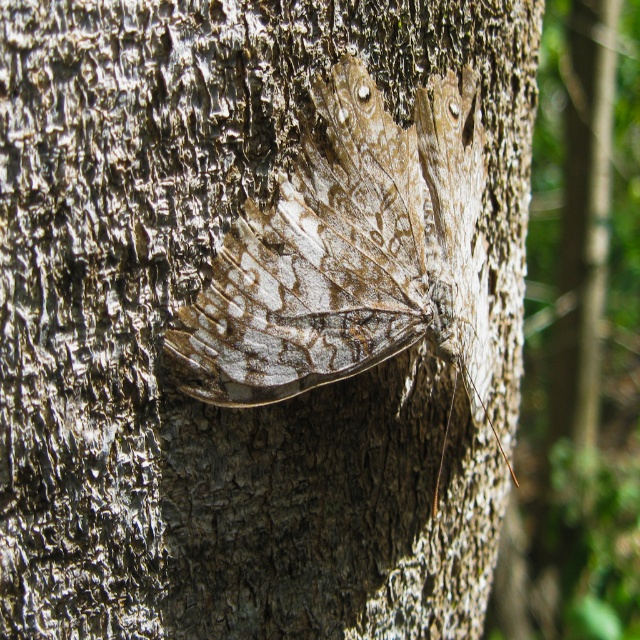Butterfly: (162, 54, 520, 515)
